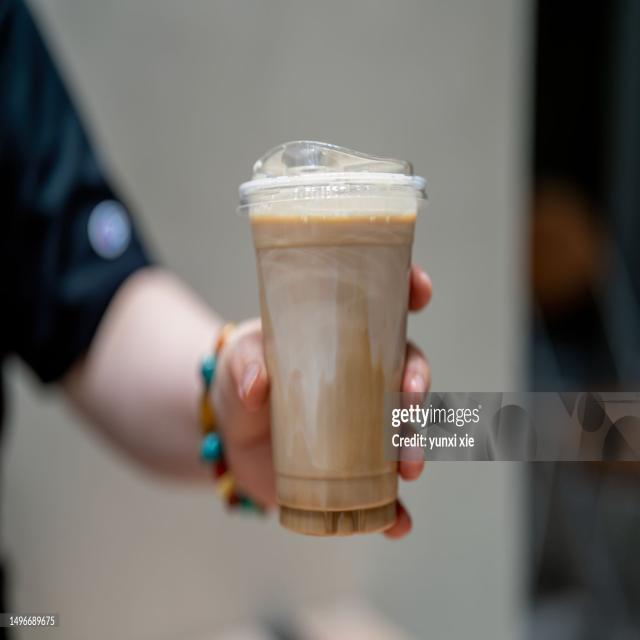cup: (238, 135, 430, 538)
